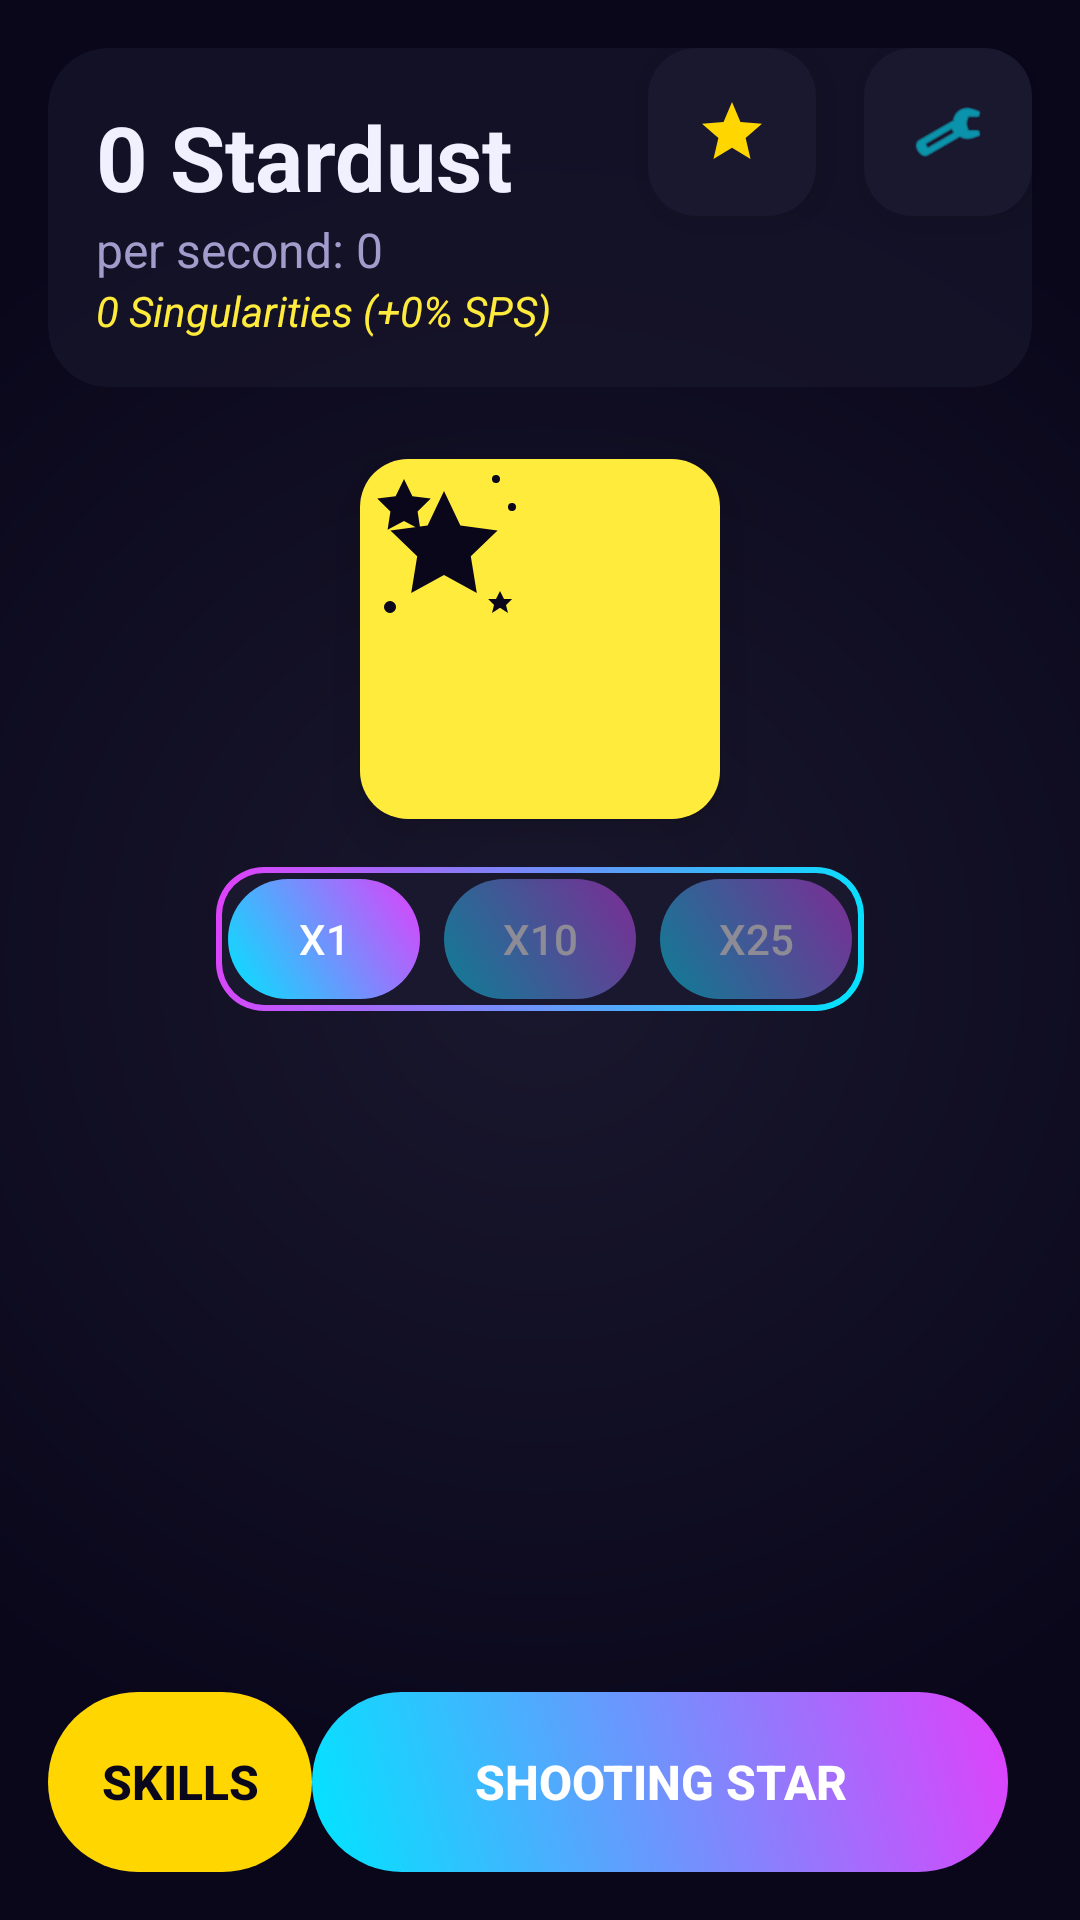

Named icons in this screenshot (1080*1920) and their bounding boxes, (x1, y1, x2, y2):
Achievements: (648, 48, 816, 216)
Settings: (864, 48, 1032, 216)
Tap to collect stardust: (360, 459, 720, 819)
